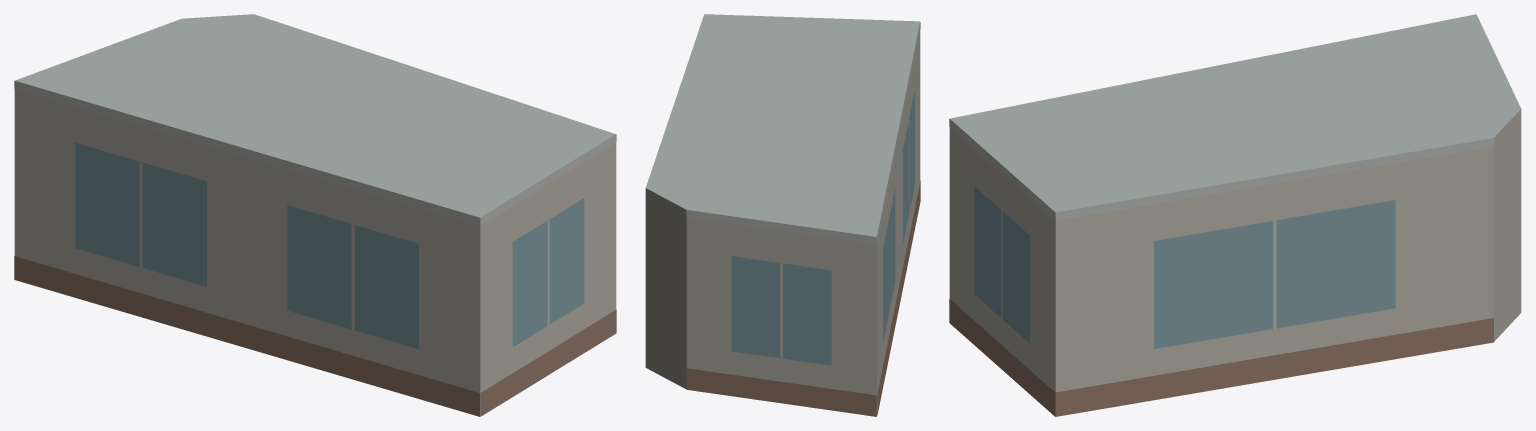
File: survey-upis-32462722.glb
The picture shows the model from 3 angles, left to right: view 1: azimuth 30°, elevation 25°; view 2: azimuth 150°, elevation 25°; view 3: azimuth 270°, elevation 25°; orthographic projection. The views are drawn at different scales.
Parts seen in each view (by area): view 1: survey-upis-32462722.tmp; view 2: survey-upis-32462722.tmp; view 3: survey-upis-32462722.tmp.
Boxes of the visible parts, bbox=[...] form: survey-upis-32462722.tmp: bbox=[14, 14, 616, 416]; survey-upis-32462722.tmp: bbox=[645, 14, 920, 416]; survey-upis-32462722.tmp: bbox=[949, 14, 1521, 416].
Size of the model in its own units: 6.36 by 3.05 by 7.75.
